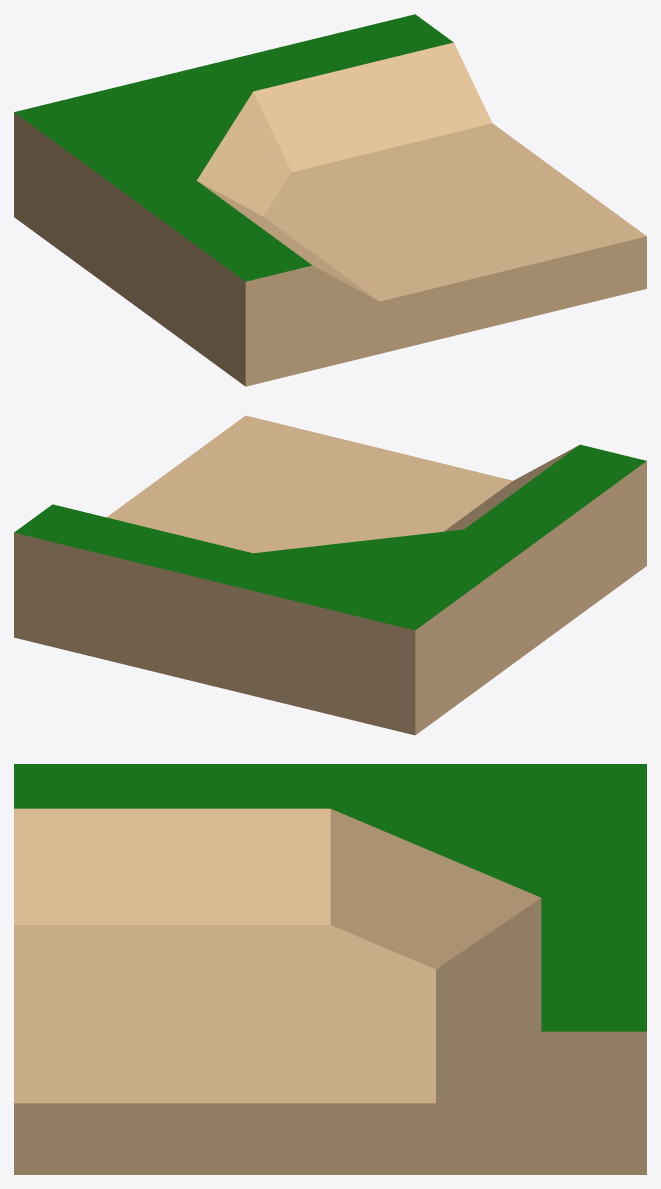
Rendered from tile_corner_3.glb.
3 renders of one model, top to bottom at view 1: azimuth 30°, elevation 25°; view 2: azimuth 150°, elevation 25°; view 3: azimuth 270°, elevation 25°, orthographic. The views are drawn at different scales.
Parts seen in each view (by area): view 1: Plane.021; view 2: Plane.021; view 3: Plane.021.
Part boxes in pixels (bbox=[...]): Plane.021: bbox=[14, 14, 646, 386]; Plane.021: bbox=[14, 415, 646, 735]; Plane.021: bbox=[14, 764, 646, 1174].
Size of the model in its own units: 2 by 0.5 by 2.
